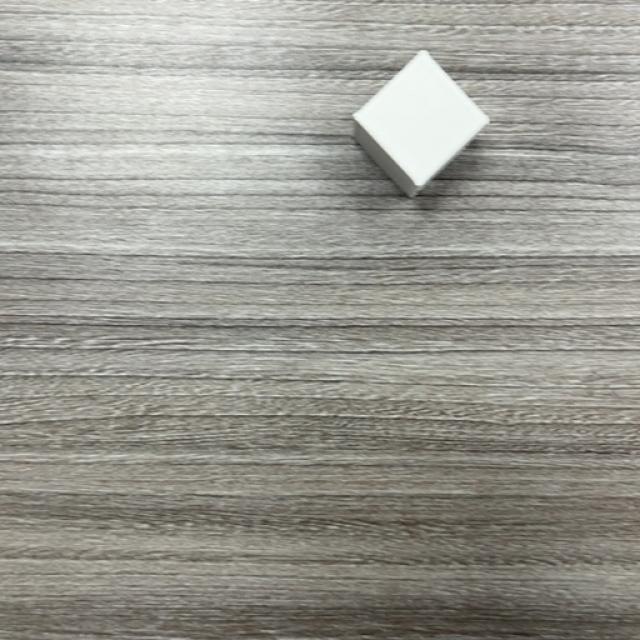Blanco: (350, 52, 490, 199)
